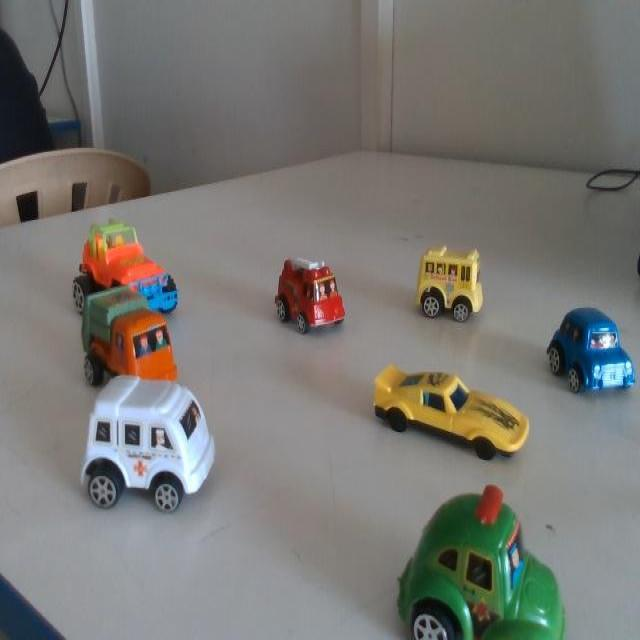car: (89, 352, 240, 539), (426, 501, 573, 639), (388, 353, 521, 475), (104, 214, 187, 320), (409, 240, 494, 338), (271, 244, 346, 351), (104, 280, 171, 396), (564, 305, 636, 399)
